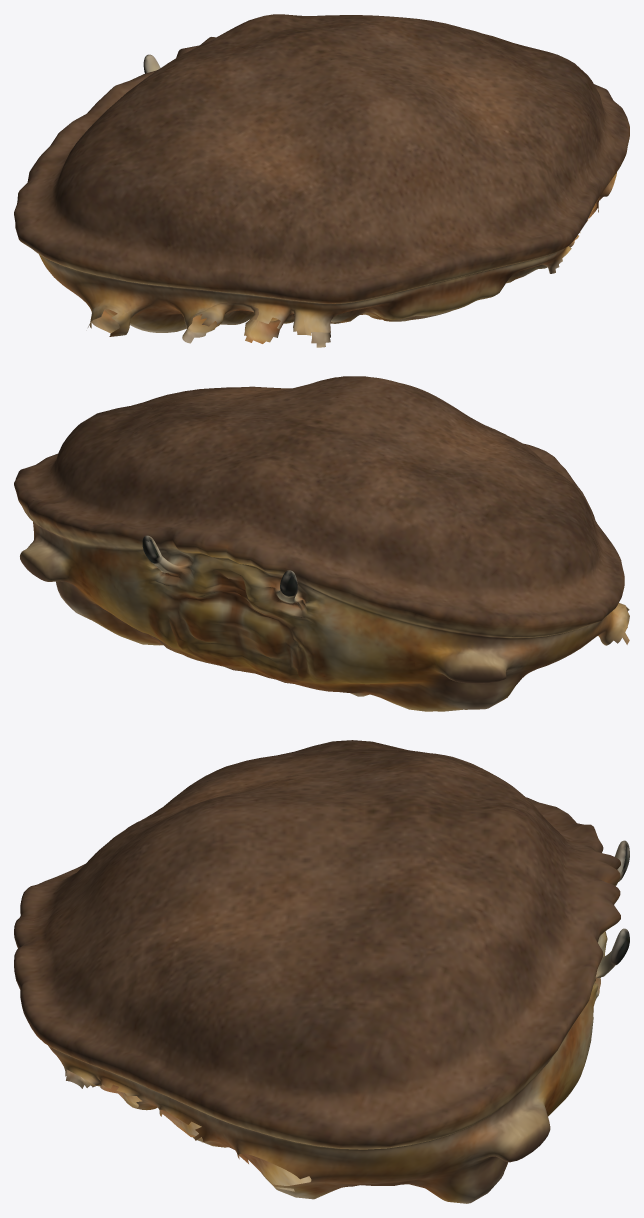
Rendered from crb2.obj.
3 views of the same model, one above another, from view 1: azimuth 30°, elevation 25°; view 2: azimuth 150°, elevation 25°; view 3: azimuth 270°, elevation 25° (orthographic). The views are drawn at different scales.
Visible parts, largest first — view 1: Crab_Obj_crab_01; view 2: Crab_Obj_crab_01; view 3: Crab_Obj_crab_01.
Boxes of the visible parts, left/top/right/bottom form: Crab_Obj_crab_01: left=14, top=14, right=629, bottom=347; Crab_Obj_crab_01: left=14, top=376, right=629, bottom=711; Crab_Obj_crab_01: left=14, top=740, right=629, bottom=1203.
Size of the model in its own units: 10.19 by 3.83 by 7.33.
1 material, 1 textured.
